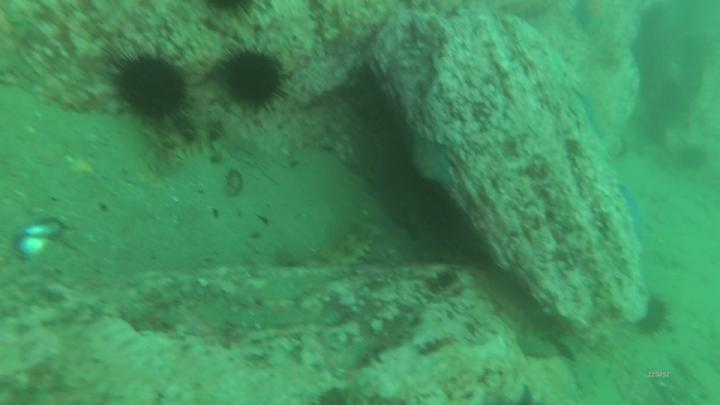echinus: (106, 47, 194, 117), (216, 45, 294, 119), (638, 295, 674, 342), (200, 1, 263, 20), (674, 143, 712, 172)
holothurian: (142, 112, 232, 163), (325, 216, 385, 266)
starfish: (409, 133, 457, 190), (618, 181, 649, 246), (577, 90, 609, 140), (569, 1, 607, 34)
